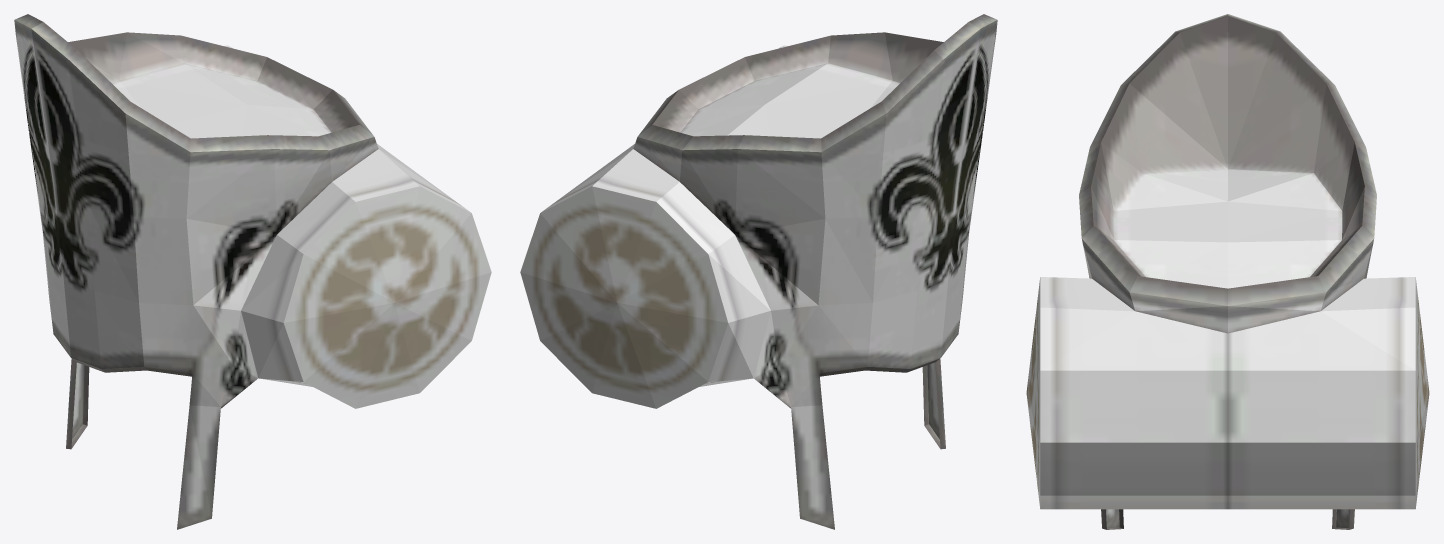
Rendered from Sheep_hierophantHat.obj.
3 views of the same model, side by side, from view 1: azimuth 30°, elevation 25°; view 2: azimuth 150°, elevation 25°; view 3: azimuth 270°, elevation 25° (orthographic). The views are drawn at different scales.
Parts seen in each view (by area): view 1: Sheep_hierophantHat_tri; view 2: Sheep_hierophantHat_tri; view 3: Sheep_hierophantHat_tri.
Boxes of the visible parts, left/top/right/bottom form: Sheep_hierophantHat_tri: left=14, top=14, right=491, bottom=529; Sheep_hierophantHat_tri: left=520, top=14, right=997, bottom=529; Sheep_hierophantHat_tri: left=1026, top=14, right=1429, bottom=529.
Bounding box in the file's own units: 0.3737 × 0.477 × 0.3674.
1 material, 1 textured.
